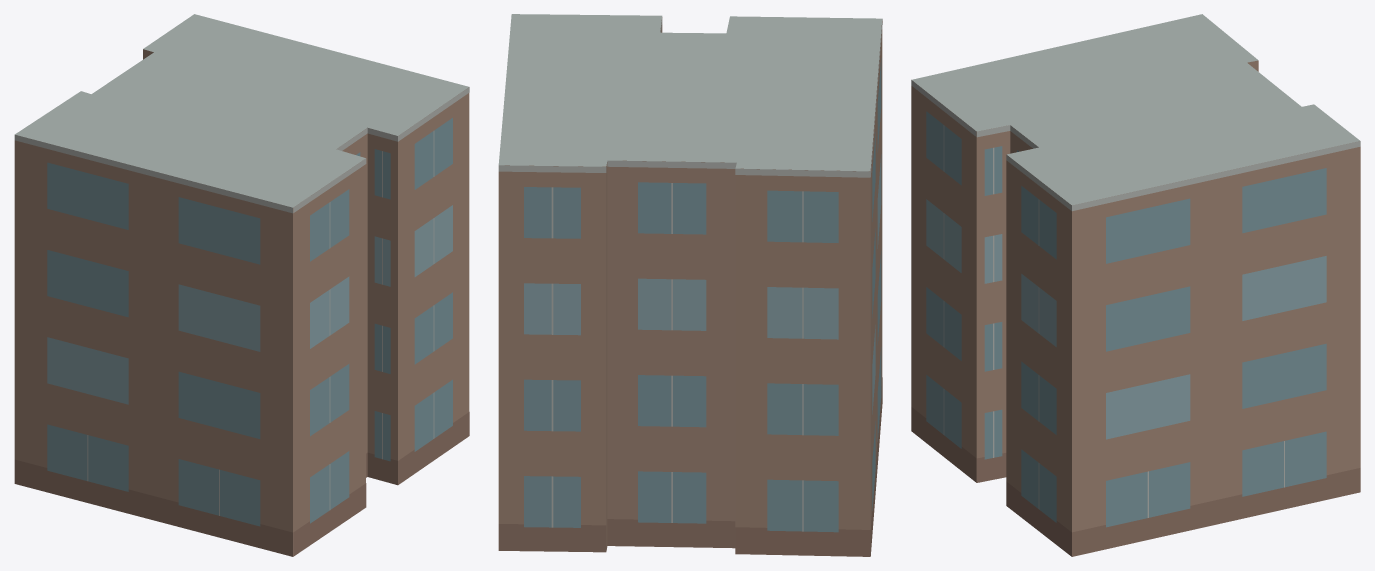
The model's file is survey-upis-32512395.glb.
The picture shows the model from 3 angles, left to right: view 1: azimuth 30°, elevation 25°; view 2: azimuth 150°, elevation 25°; view 3: azimuth 270°, elevation 25°; orthographic projection. The views are drawn at different scales.
Visible parts, largest first — view 1: survey-upis-32512395.tmp; view 2: survey-upis-32512395.tmp; view 3: survey-upis-32512395.tmp.
Boxes of the visible parts, <box> form: survey-upis-32512395.tmp: <box>14,14,469,556</box>; survey-upis-32512395.tmp: <box>498,14,882,556</box>; survey-upis-32512395.tmp: <box>911,14,1360,556</box>.
Bounding box in the file's own units: 17.37 × 14.85 × 17.21.
